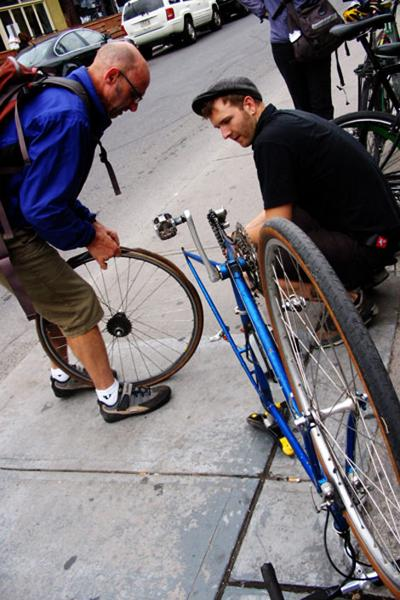person: (1, 33, 172, 426)
